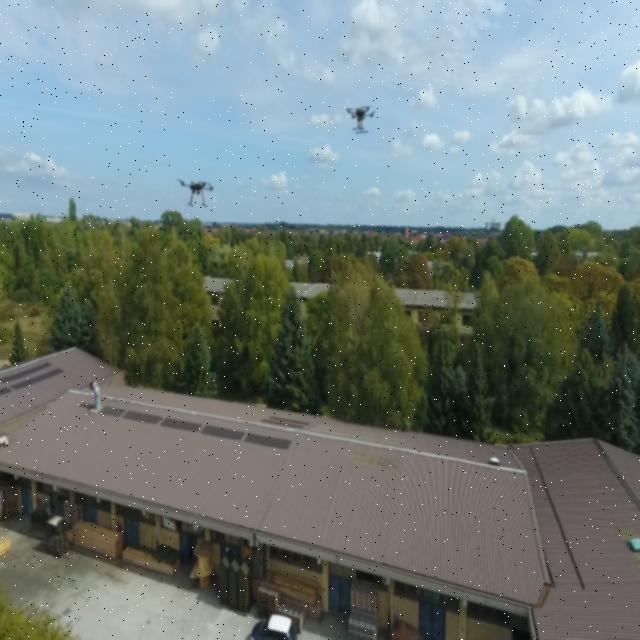UAV: (176, 175, 219, 206), (342, 98, 379, 134)
